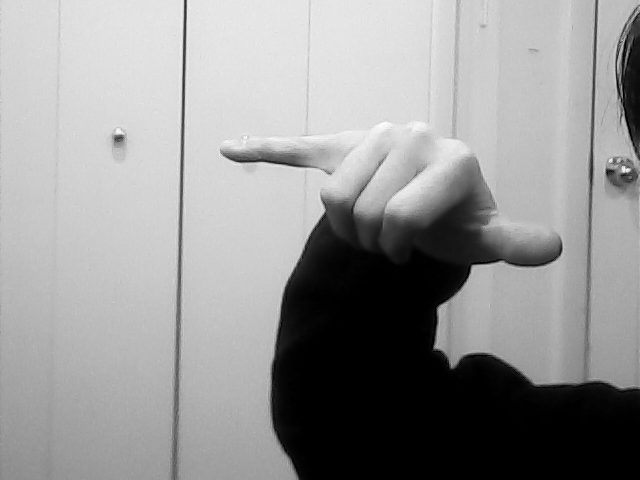aloha: (217, 115, 564, 272)
